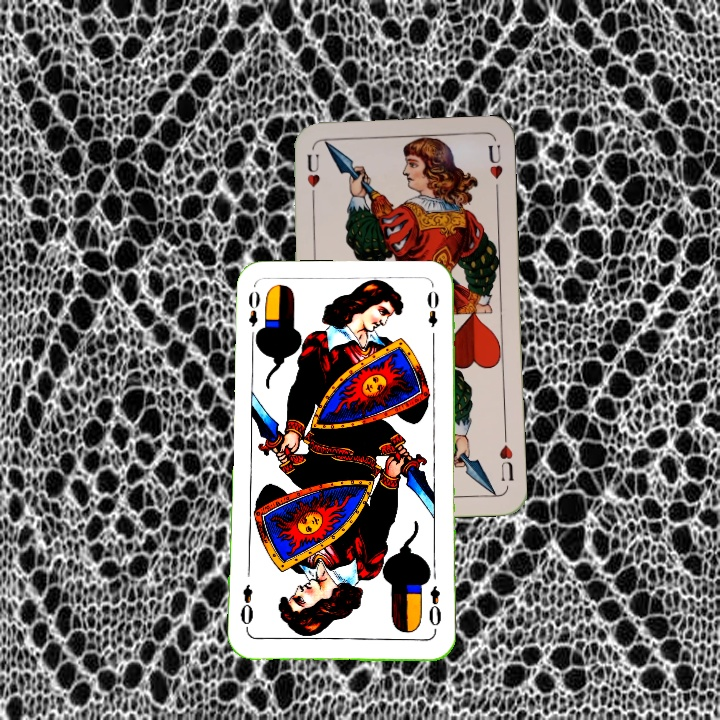EO: (424, 582, 444, 635), (244, 287, 262, 344)
HU: (495, 430, 516, 484), (303, 149, 322, 206)
